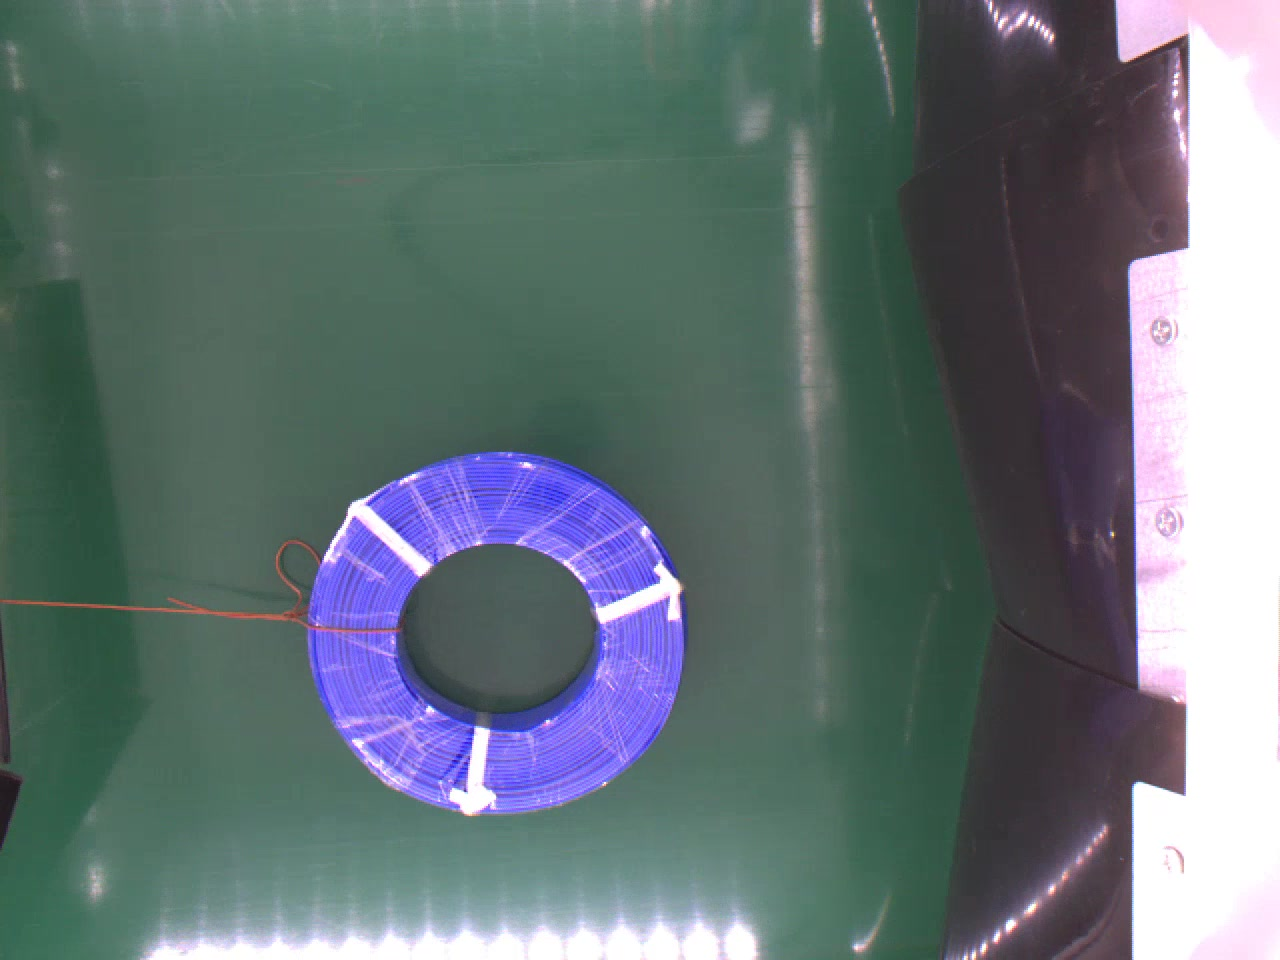blue: (306, 445, 685, 820)
